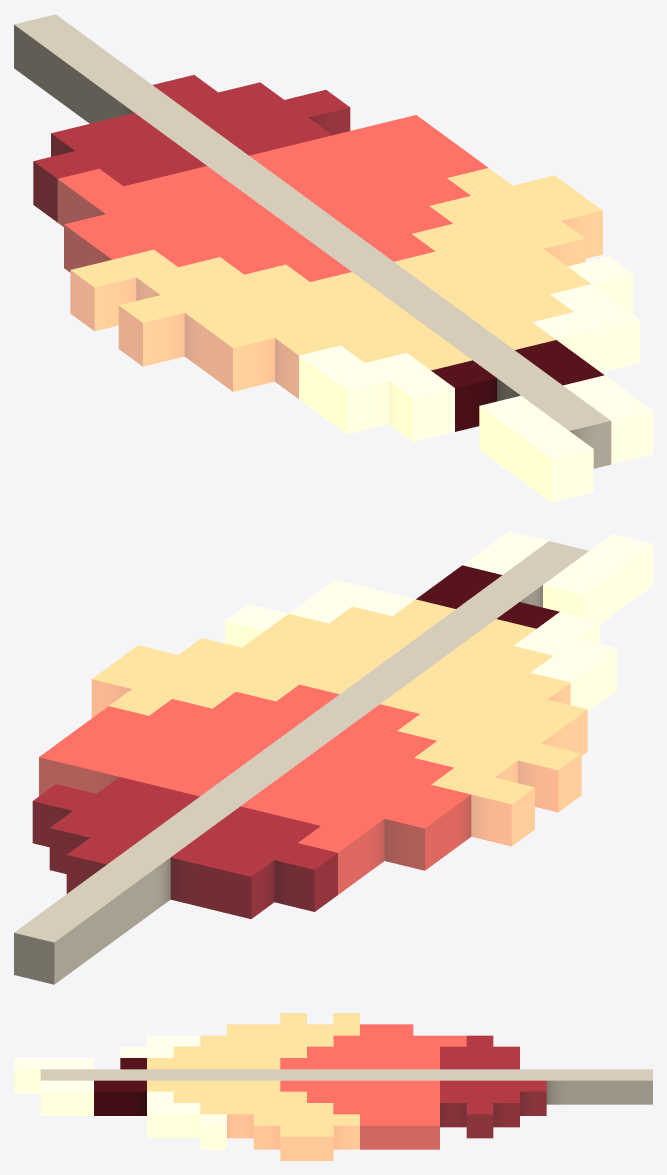
The model's file is phoenix_feather.glb.
3 renders of one model, top to bottom at view 1: azimuth 30°, elevation 25°; view 2: azimuth 150°, elevation 25°; view 3: azimuth 270°, elevation 25°, orthographic. The views are drawn at different scales.
Visible parts, largest first — view 1: phoenix_feather_body; view 2: phoenix_feather_body; view 3: phoenix_feather_body.
Part boxes in pixels (<box>): phoenix_feather_body: <box>14,14,652,502</box>; phoenix_feather_body: <box>14,531,652,984</box>; phoenix_feather_body: <box>14,1013,652,1160</box>.
Bounding box in the file's own units: 0.6875 × 0.0625 × 1.5.
1 material, 1 textured.
